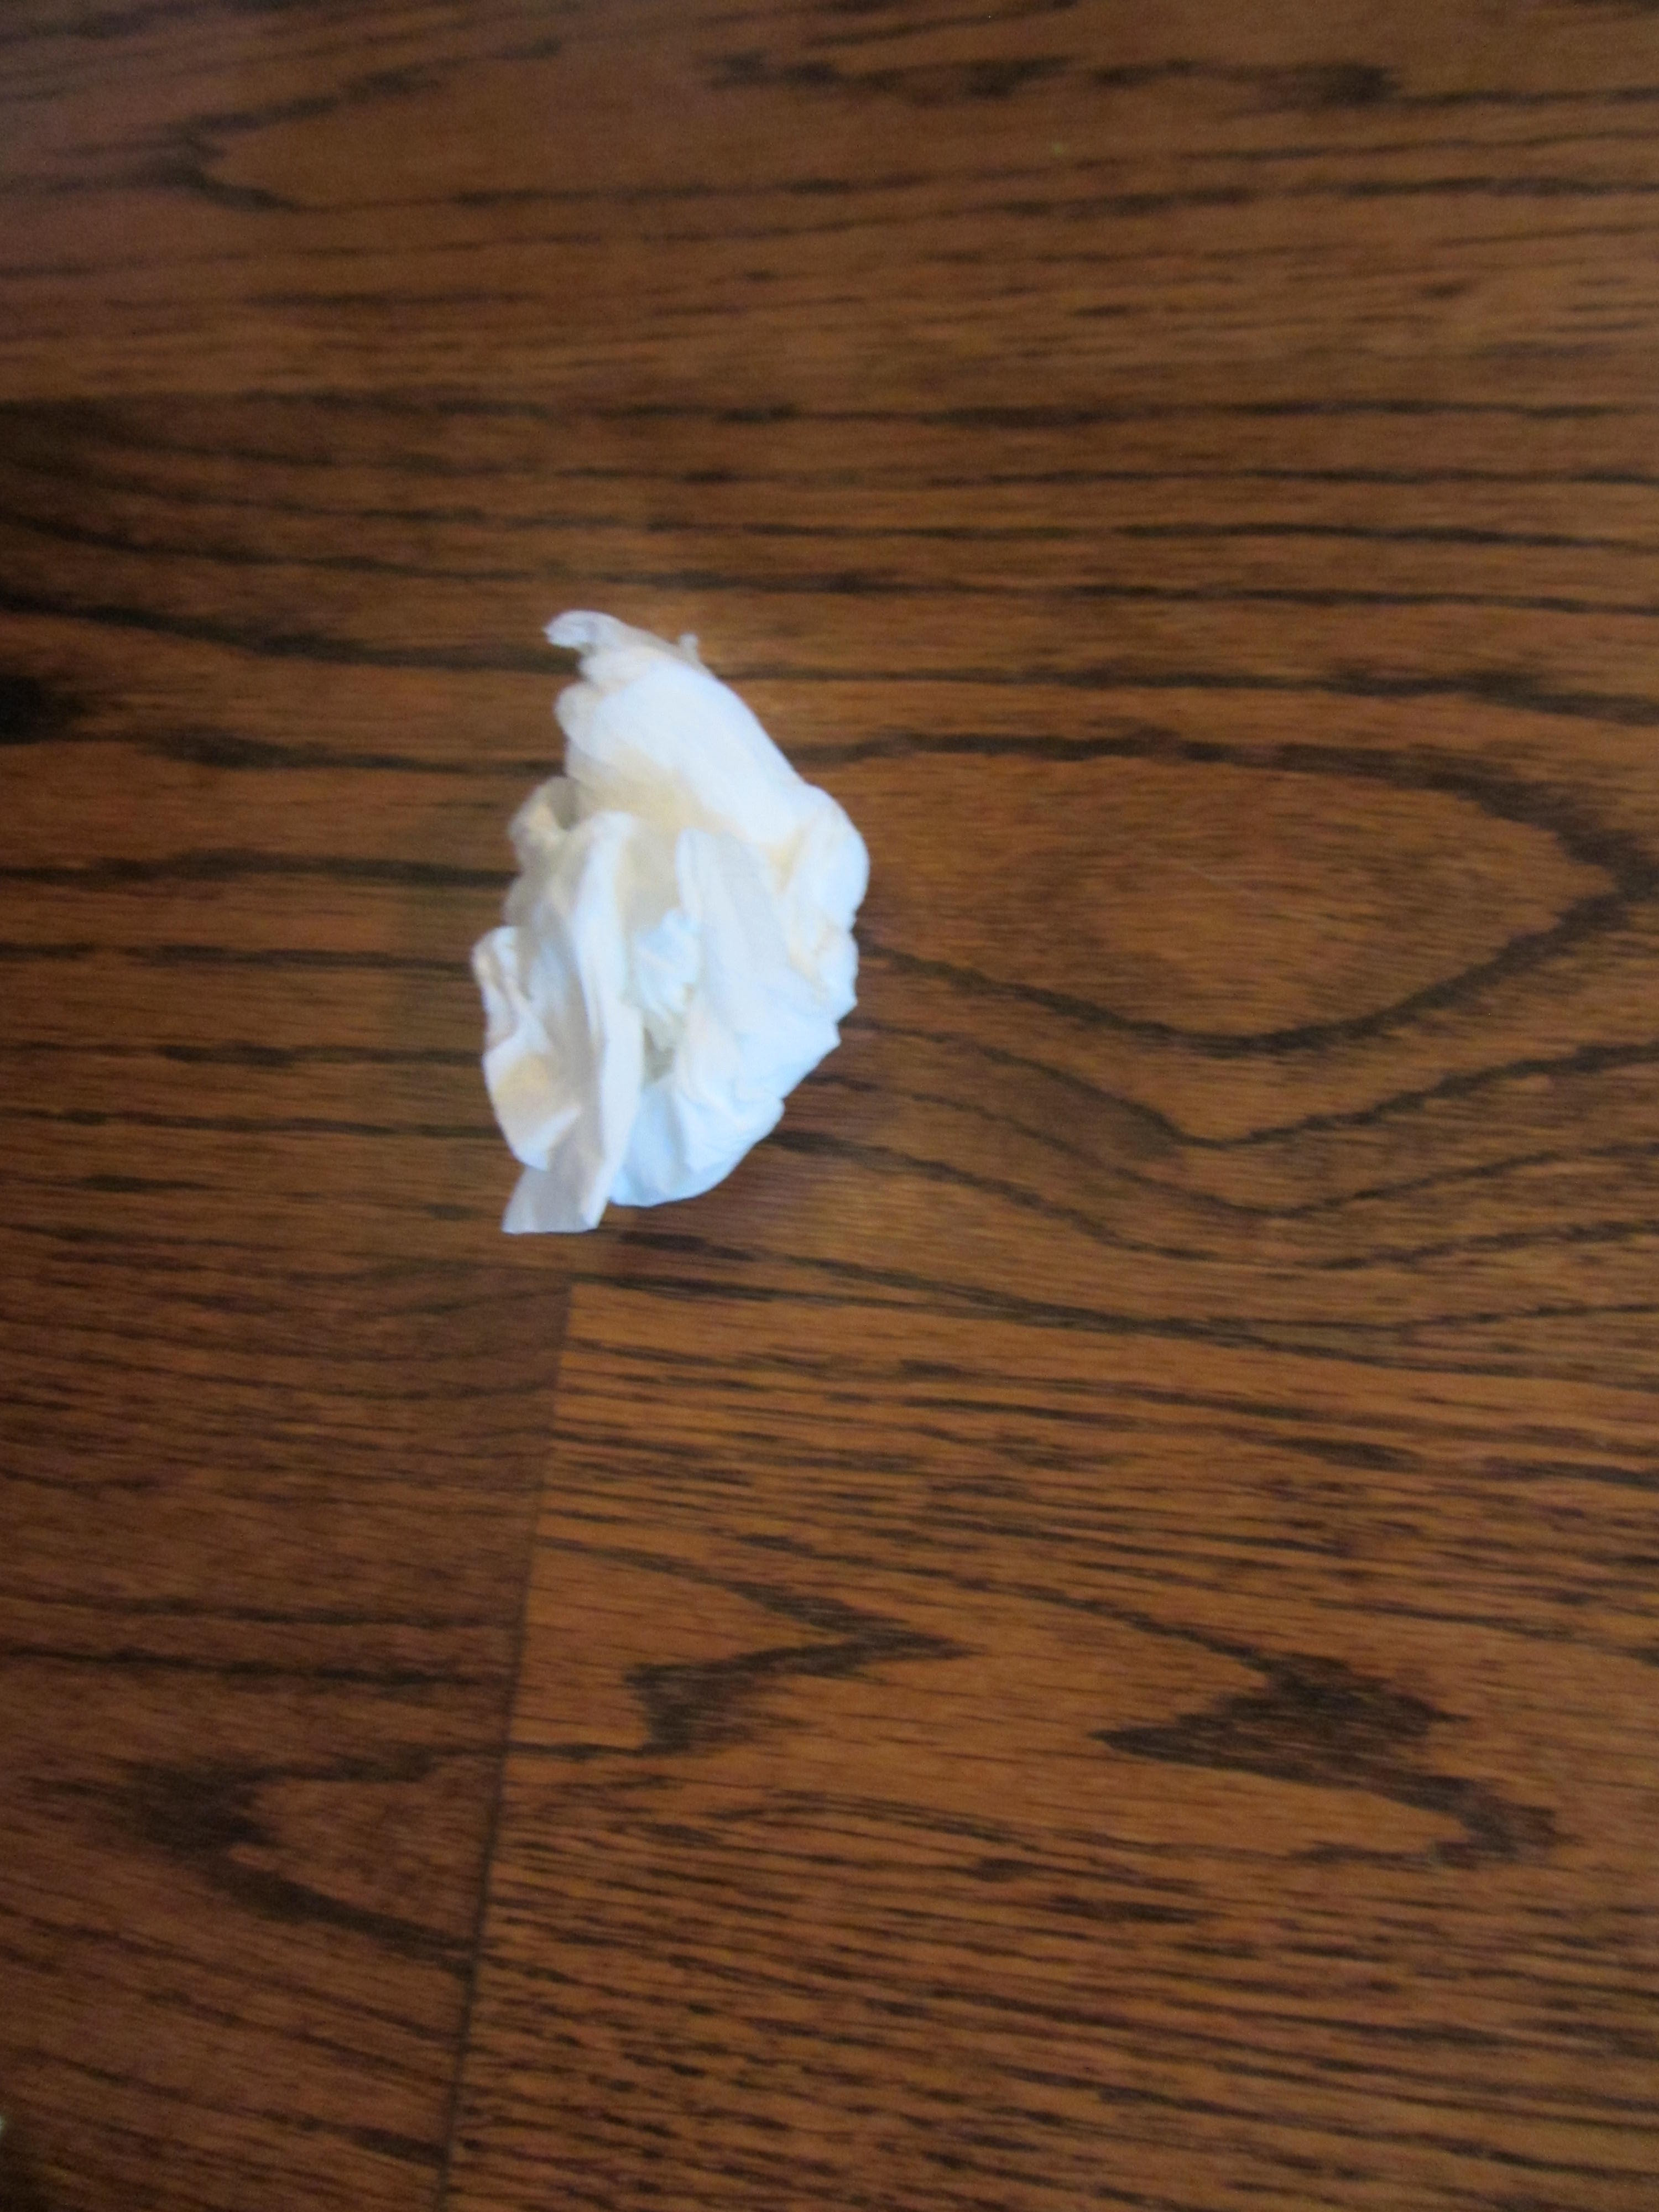tissue: (427, 563, 887, 1292)
